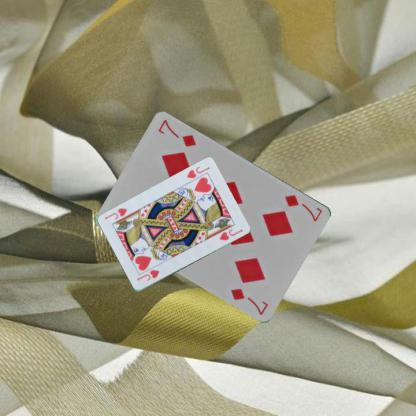7d: (283, 192, 324, 223)
Jh: (184, 164, 211, 180), (134, 268, 161, 282)
